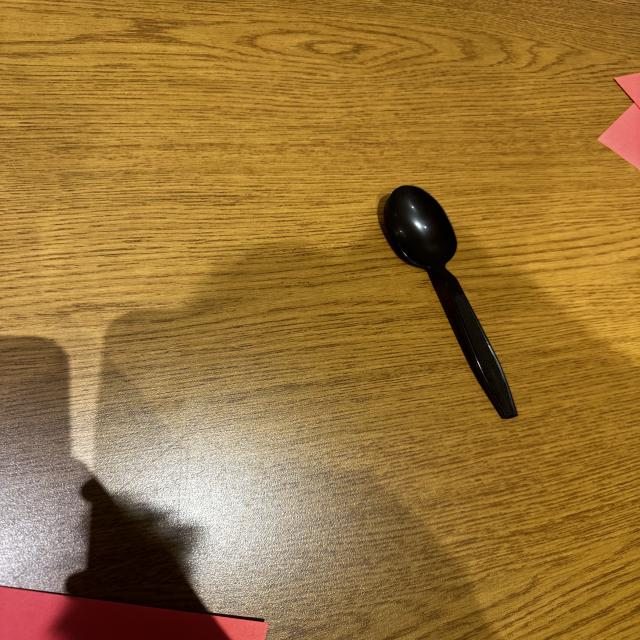spoon: (353, 163, 571, 434)
